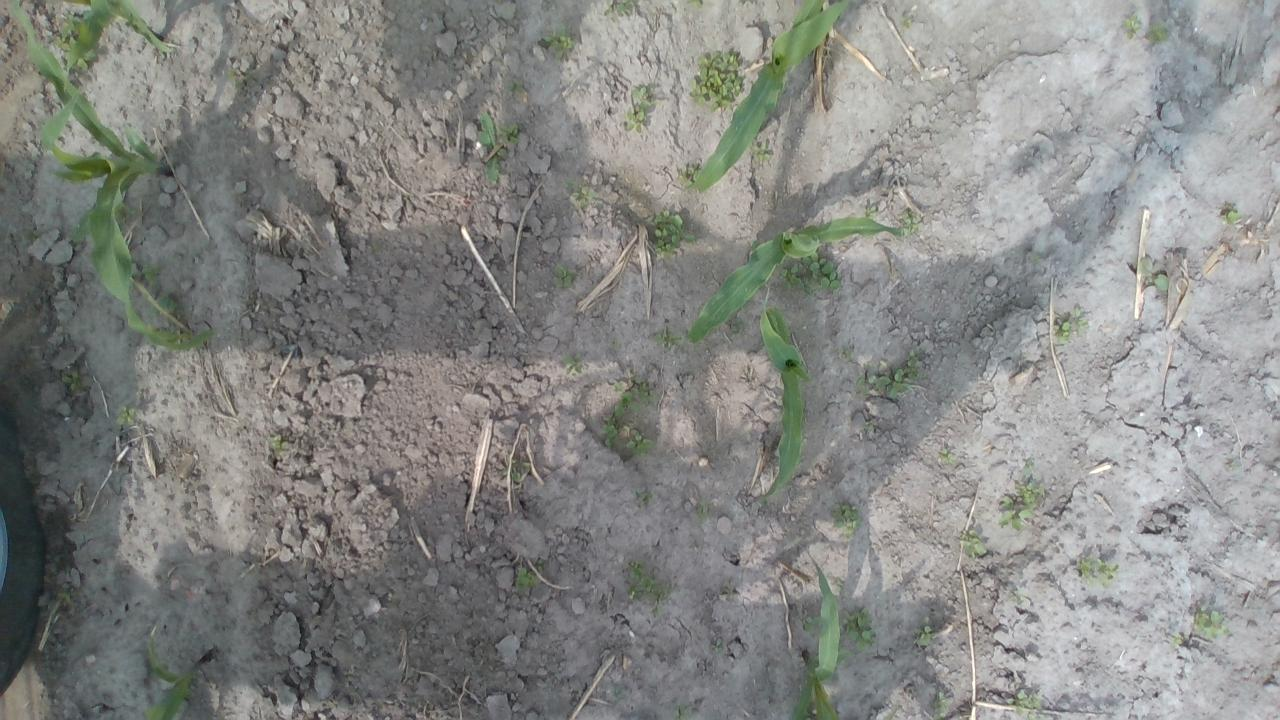Maize: (15, 21, 216, 352), (689, 0, 854, 193), (684, 218, 910, 344), (754, 300, 816, 503), (790, 550, 841, 720), (144, 626, 200, 720)
Weeds: (603, 377, 657, 462), (686, 44, 744, 112), (472, 110, 519, 188), (770, 248, 846, 296), (852, 355, 925, 399), (997, 462, 1042, 531), (621, 557, 667, 606), (54, 24, 94, 73), (1191, 600, 1233, 640), (625, 81, 653, 136), (1052, 305, 1088, 345), (844, 603, 876, 648), (54, 367, 96, 399), (656, 212, 686, 253), (957, 524, 988, 562), (1137, 257, 1170, 292), (1124, 22, 1178, 42), (541, 32, 576, 62), (1008, 690, 1044, 718), (566, 182, 602, 210), (832, 506, 862, 539), (1078, 560, 1120, 582), (266, 435, 294, 463), (512, 560, 534, 592), (550, 266, 574, 292), (114, 401, 136, 428), (752, 142, 774, 164), (916, 621, 932, 651)
